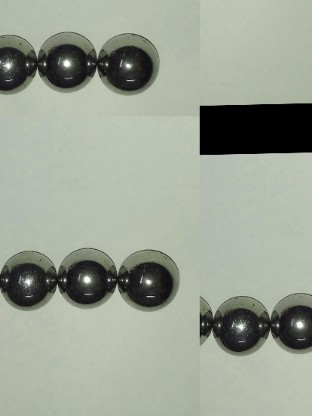ironball: (109, 239, 183, 310), (31, 30, 105, 93), (57, 239, 117, 313), (205, 288, 265, 358), (100, 34, 167, 96), (0, 244, 59, 313), (265, 283, 310, 353), (0, 33, 40, 93)
